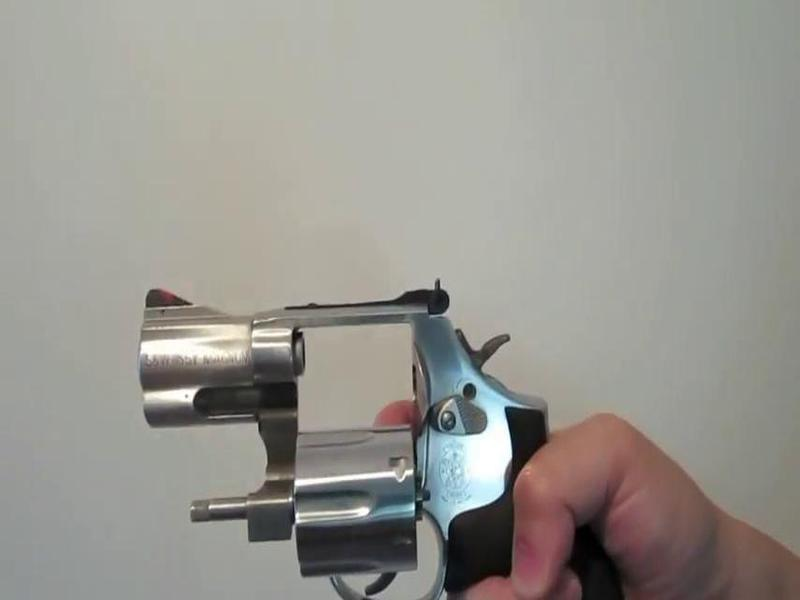Revolver: (117, 235, 551, 600)
